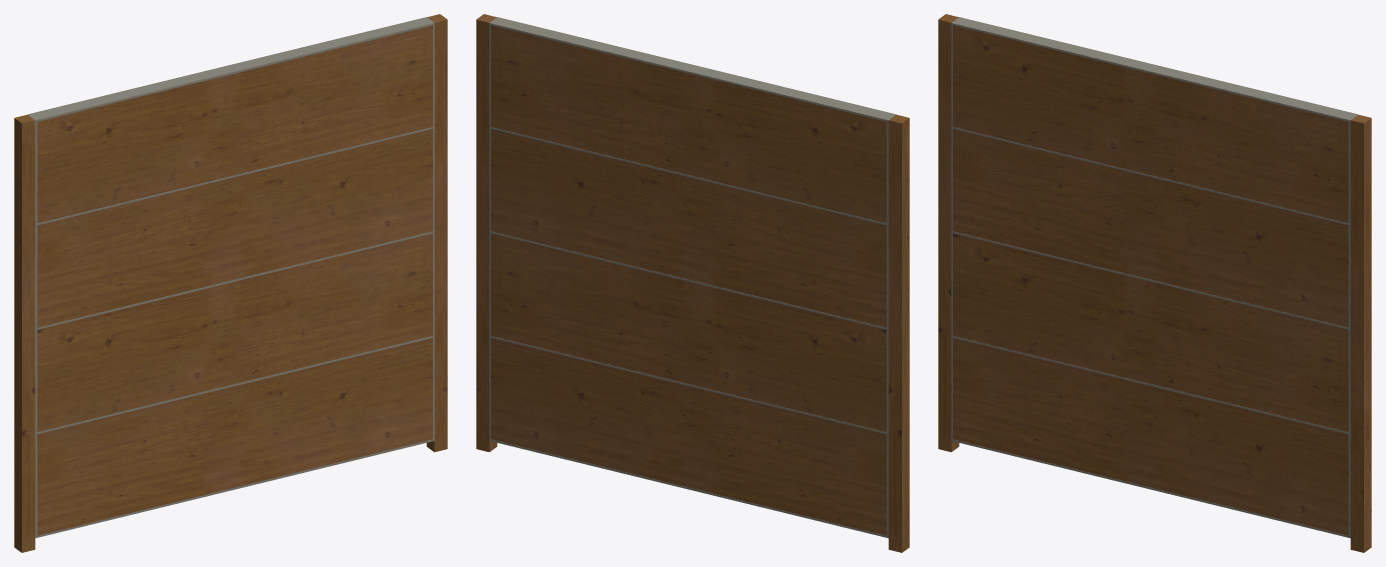
The model's file is ABF1-H1800_naturalpine.fbx.
The picture shows the model from 3 angles, left to right: view 1: azimuth 30°, elevation 25°; view 2: azimuth 150°, elevation 25°; view 3: azimuth 330°, elevation 25°; orthographic projection.
Visible parts, largest first — view 1: 1850-1920-60_natural pine; view 2: 1850-1920-60_natural pine; view 3: 1850-1920-60_natural pine.
Boxes of the visible parts, x1,y1,x2,y2 form: 1850-1920-60_natural pine: (14, 14, 447, 552); 1850-1920-60_natural pine: (476, 14, 909, 552); 1850-1920-60_natural pine: (938, 14, 1371, 552).
Bounding box in the file's own units: 192 × 185 × 6.4.
4 materials, 3 textured.
